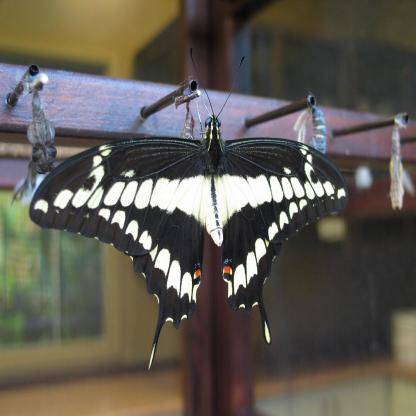Giant Swallowtail: (50, 71, 370, 357)
